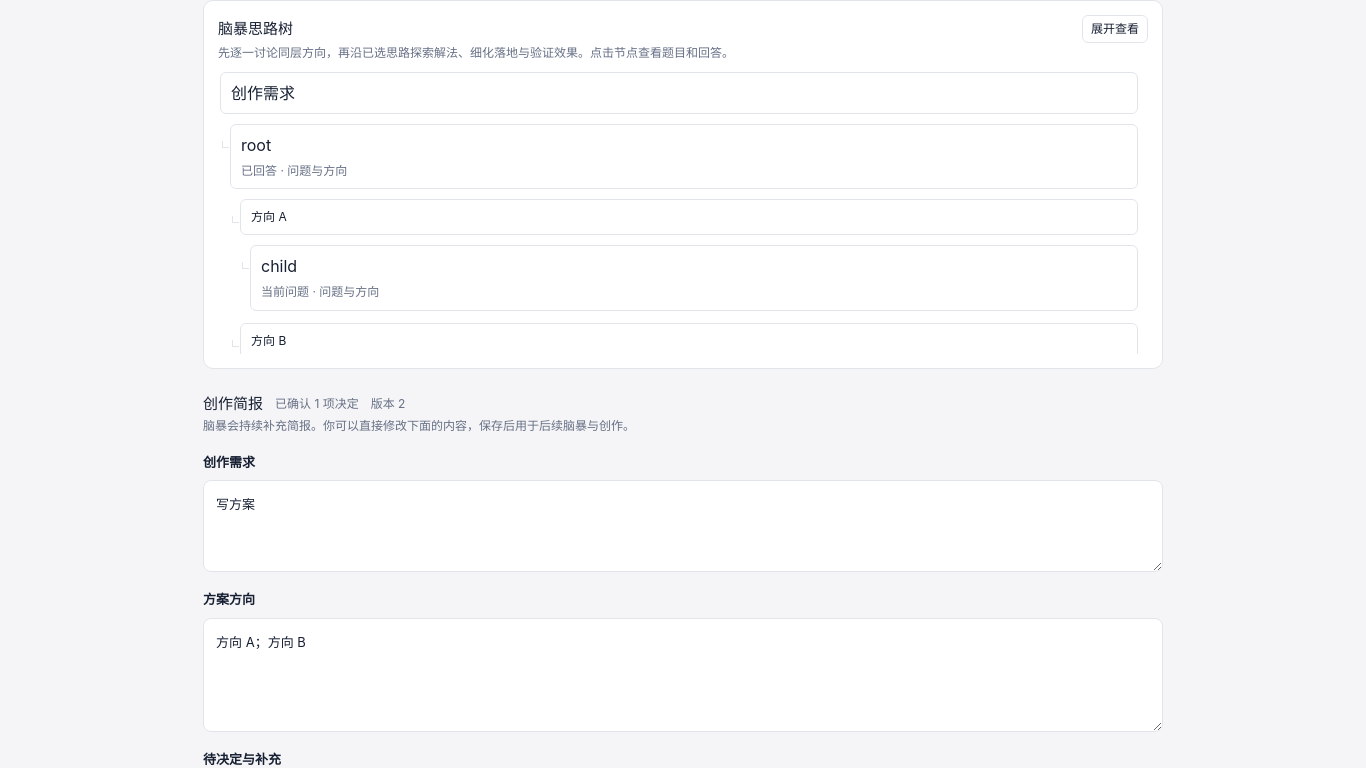
it: 创作简报编辑器 › shows branches and opens complete questions from tree nodes
This screenshot has width=1366, height=768.
Step 1. Click the button "child 当前问题 · 问题与方向" → coordinates (279, 266), box [250,245,1138,311]
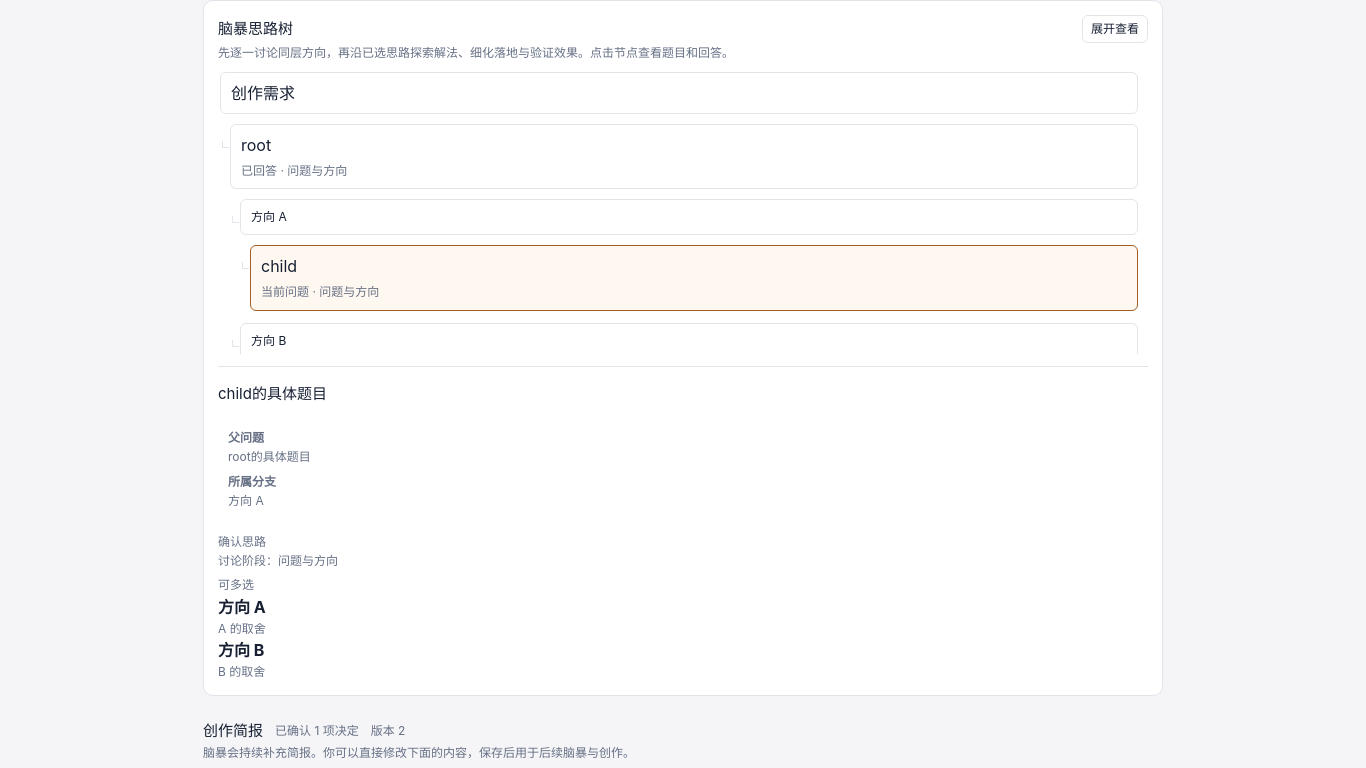
Expected: the element named "思路节点题目" shows "child的具体题目", [218,384,327,403]
Expected: the element named "思路节点题目" shows "A 的取舍", [218,621,266,636]
